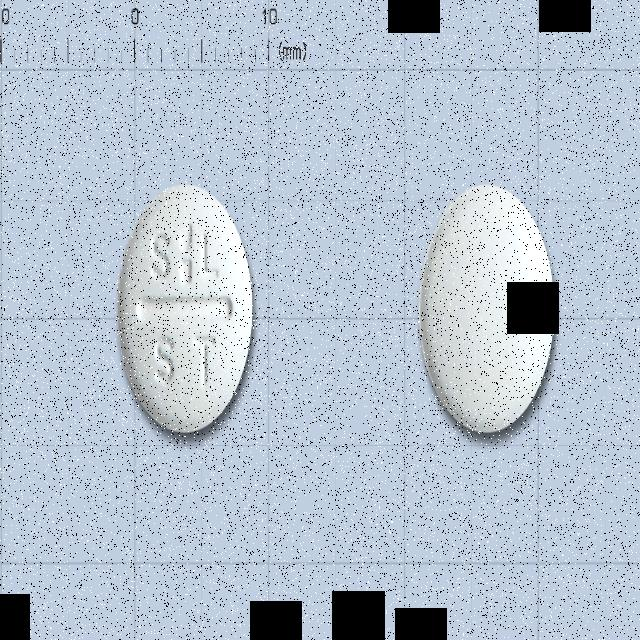Septrin: (117, 183, 255, 433)
